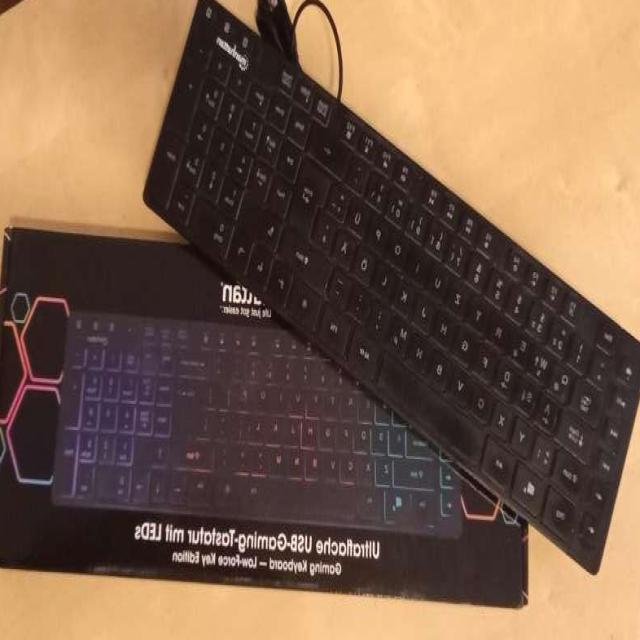keyboard: (143, 0, 640, 576), (50, 308, 466, 510)
